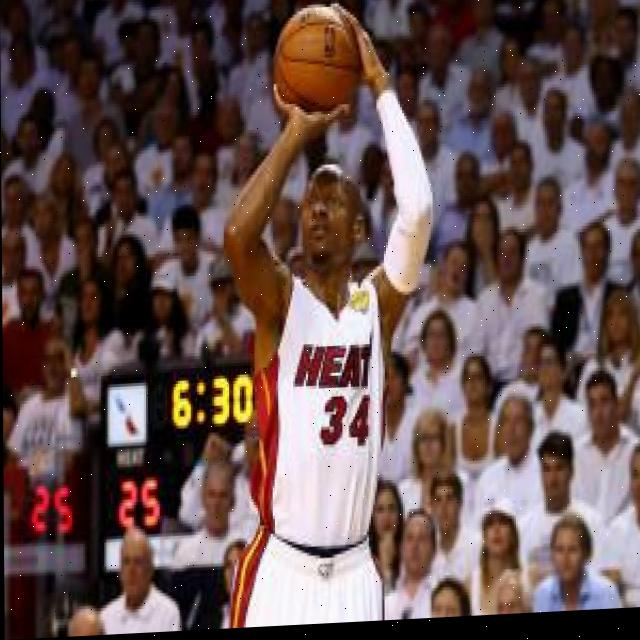basketball: (276, 2, 362, 114)
